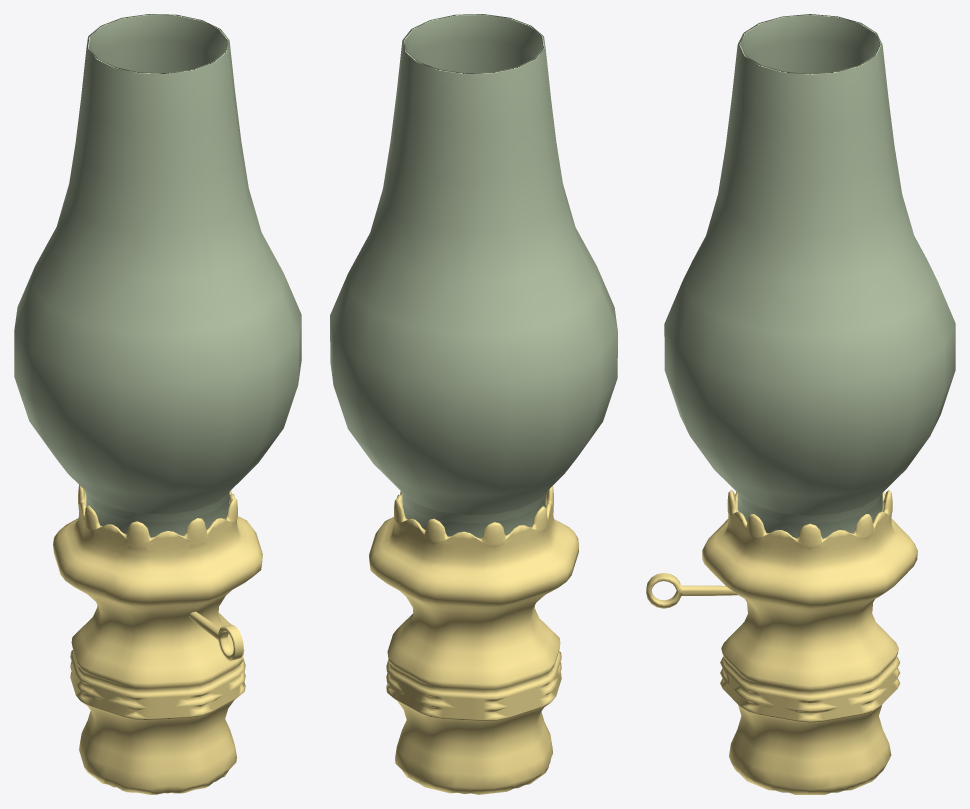
Rendered from obj_oil_lamp.glb.
The picture shows the model from 3 angles, left to right: view 1: azimuth 30°, elevation 25°; view 2: azimuth 150°, elevation 25°; view 3: azimuth 270°, elevation 25°; orthographic projection.
Visible parts, largest first — view 1: defaultMaterial; view 2: defaultMaterial; view 3: defaultMaterial.
Boxes of the visible parts, x1=… form: defaultMaterial: x1=14, y1=14, x2=301, y2=794; defaultMaterial: x1=330, y1=14, x2=617, y2=794; defaultMaterial: x1=646, y1=14, x2=955, y2=794.
Bounding box in the file's own units: 0.139 × 0.38 × 0.1477.
Materials: 4 (4 with a texture image).
